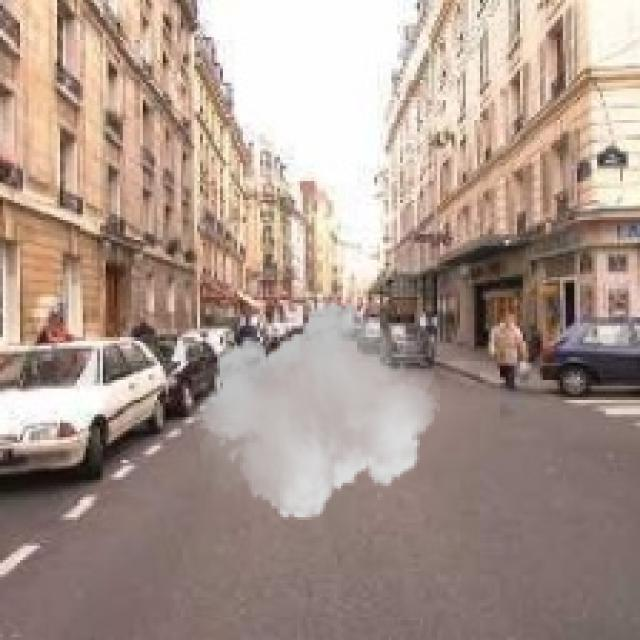smoke: (194, 294, 440, 529)
